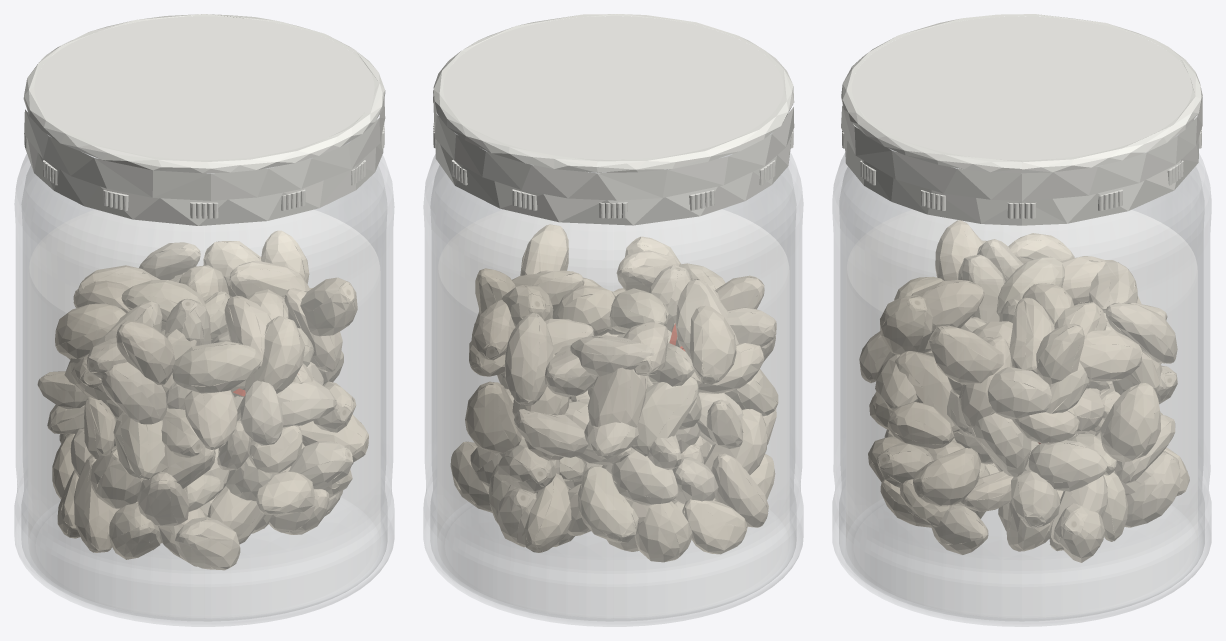
Rendered from PROP_garlic_vinegar_jar_v005_OPT.glb.
3 renders of one model, left to right at view 1: azimuth 30°, elevation 25°; view 2: azimuth 150°, elevation 25°; view 3: azimuth 270°, elevation 25°, orthographic.
Parts seen in each view (by area): view 1: Jar_Body, Lid_Shell, Vinegar_Transparent_Fill_83mm, Garlic_UserClove_RealMesh_Variant_06, Garlic_UserClove_RealMesh_Variant_04, Garlic_UserClove_RealMesh_Variant_02, Garlic_UserClove_RealMesh_Variant_03, Garlic_UserClove_RealMesh_Variant_05, Garlic_UserClove_RealMesh_Variant_01, Lid_Grip_Ribs; view 2: Jar_Body, Lid_Shell, Vinegar_Transparent_Fill_83mm, Garlic_UserClove_RealMesh_Variant_03, Garlic_UserClove_RealMesh_Variant_06, Garlic_UserClove_RealMesh_Variant_01, Garlic_UserClove_RealMesh_Variant_02, Garlic_UserClove_RealMesh_Variant_05, Garlic_UserClove_RealMesh_Variant_04, Lid_Grip_Ribs; view 3: Jar_Body, Lid_Shell, Vinegar_Transparent_Fill_83mm, Garlic_UserClove_RealMesh_Variant_01, Garlic_UserClove_RealMesh_Variant_06, Garlic_UserClove_RealMesh_Variant_03, Garlic_UserClove_RealMesh_Variant_02, Garlic_UserClove_RealMesh_Variant_04, Garlic_UserClove_RealMesh_Variant_05, Lid_Grip_Ribs.
Boxes of the visible parts, <box> form: Jar_Body: <box>14,135,394,626</box>; Lid_Shell: <box>23,14,385,225</box>; Vinegar_Transparent_Fill_83mm: <box>29,210,379,534</box>; Garlic_UserClove_RealMesh_Variant_06: <box>52,230,368,559</box>; Garlic_UserClove_RealMesh_Variant_04: <box>73,258,342,566</box>; Garlic_UserClove_RealMesh_Variant_02: <box>71,260,357,543</box>; Garlic_UserClove_RealMesh_Variant_03: <box>70,242,342,515</box>; Garlic_UserClove_RealMesh_Variant_05: <box>59,280,314,511</box>; Garlic_UserClove_RealMesh_Variant_01: <box>37,272,353,570</box>; Lid_Grip_Ribs: <box>24,124,384,218</box>; Jar_Body: <box>423,133,803,626</box>; Lid_Shell: <box>433,14,794,225</box>; Vinegar_Transparent_Fill_83mm: <box>438,210,788,533</box>; Garlic_UserClove_RealMesh_Variant_03: <box>470,265,776,546</box>; Garlic_UserClove_RealMesh_Variant_06: <box>465,236,775,562</box>; Garlic_UserClove_RealMesh_Variant_01: <box>450,279,743,512</box>; Garlic_UserClove_RealMesh_Variant_02: <box>469,224,767,552</box>; Garlic_UserClove_RealMesh_Variant_05: <box>476,263,778,546</box>; Garlic_UserClove_RealMesh_Variant_04: <box>471,250,776,527</box>; Lid_Grip_Ribs: <box>433,122,793,218</box>; Jar_Body: <box>832,125,1211,626</box>; Lid_Shell: <box>841,14,1202,225</box>; Vinegar_Transparent_Fill_83mm: <box>846,210,1197,536</box>; Garlic_UserClove_RealMesh_Variant_01: <box>875,239,1175,562</box>; Garlic_UserClove_RealMesh_Variant_06: <box>868,233,1160,526</box>; Garlic_UserClove_RealMesh_Variant_03: <box>859,240,1180,554</box>; Garlic_UserClove_RealMesh_Variant_02: <box>888,277,1189,551</box>; Garlic_UserClove_RealMesh_Variant_04: <box>880,220,1142,527</box>; Garlic_UserClove_RealMesh_Variant_05: <box>894,256,1162,541</box>; Lid_Grip_Ribs: <box>842,128,1201,218</box>.
Size of the model in its own units: 0.1 by 0.1351 by 0.0999.
Materials: 10 (6 with a texture image).
